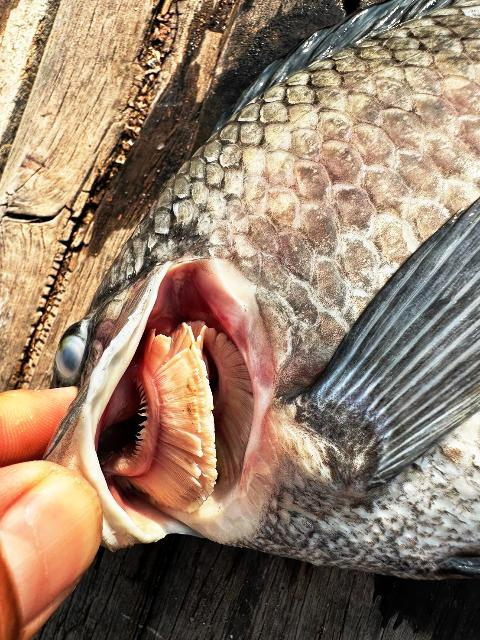Aeromonas Septicemia: (45, 0, 480, 580), (46, 0, 480, 575)
